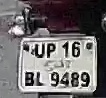1: (61, 41, 71, 59)
4: (60, 71, 70, 89)
6: (70, 39, 81, 60)
8: (70, 72, 80, 87)
9: (49, 70, 61, 88), (80, 70, 90, 88)
B: (21, 69, 36, 89)
L: (35, 70, 45, 87)
P: (46, 41, 57, 62)
U: (32, 42, 47, 61)
